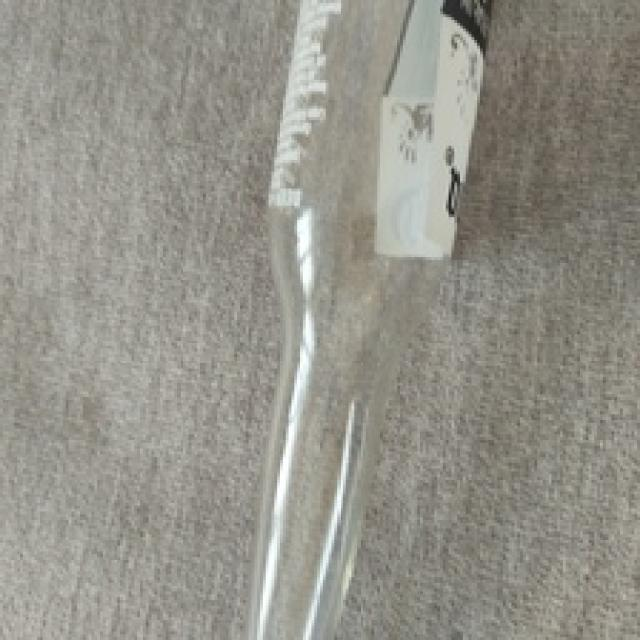Glass: (255, 0, 492, 640)
